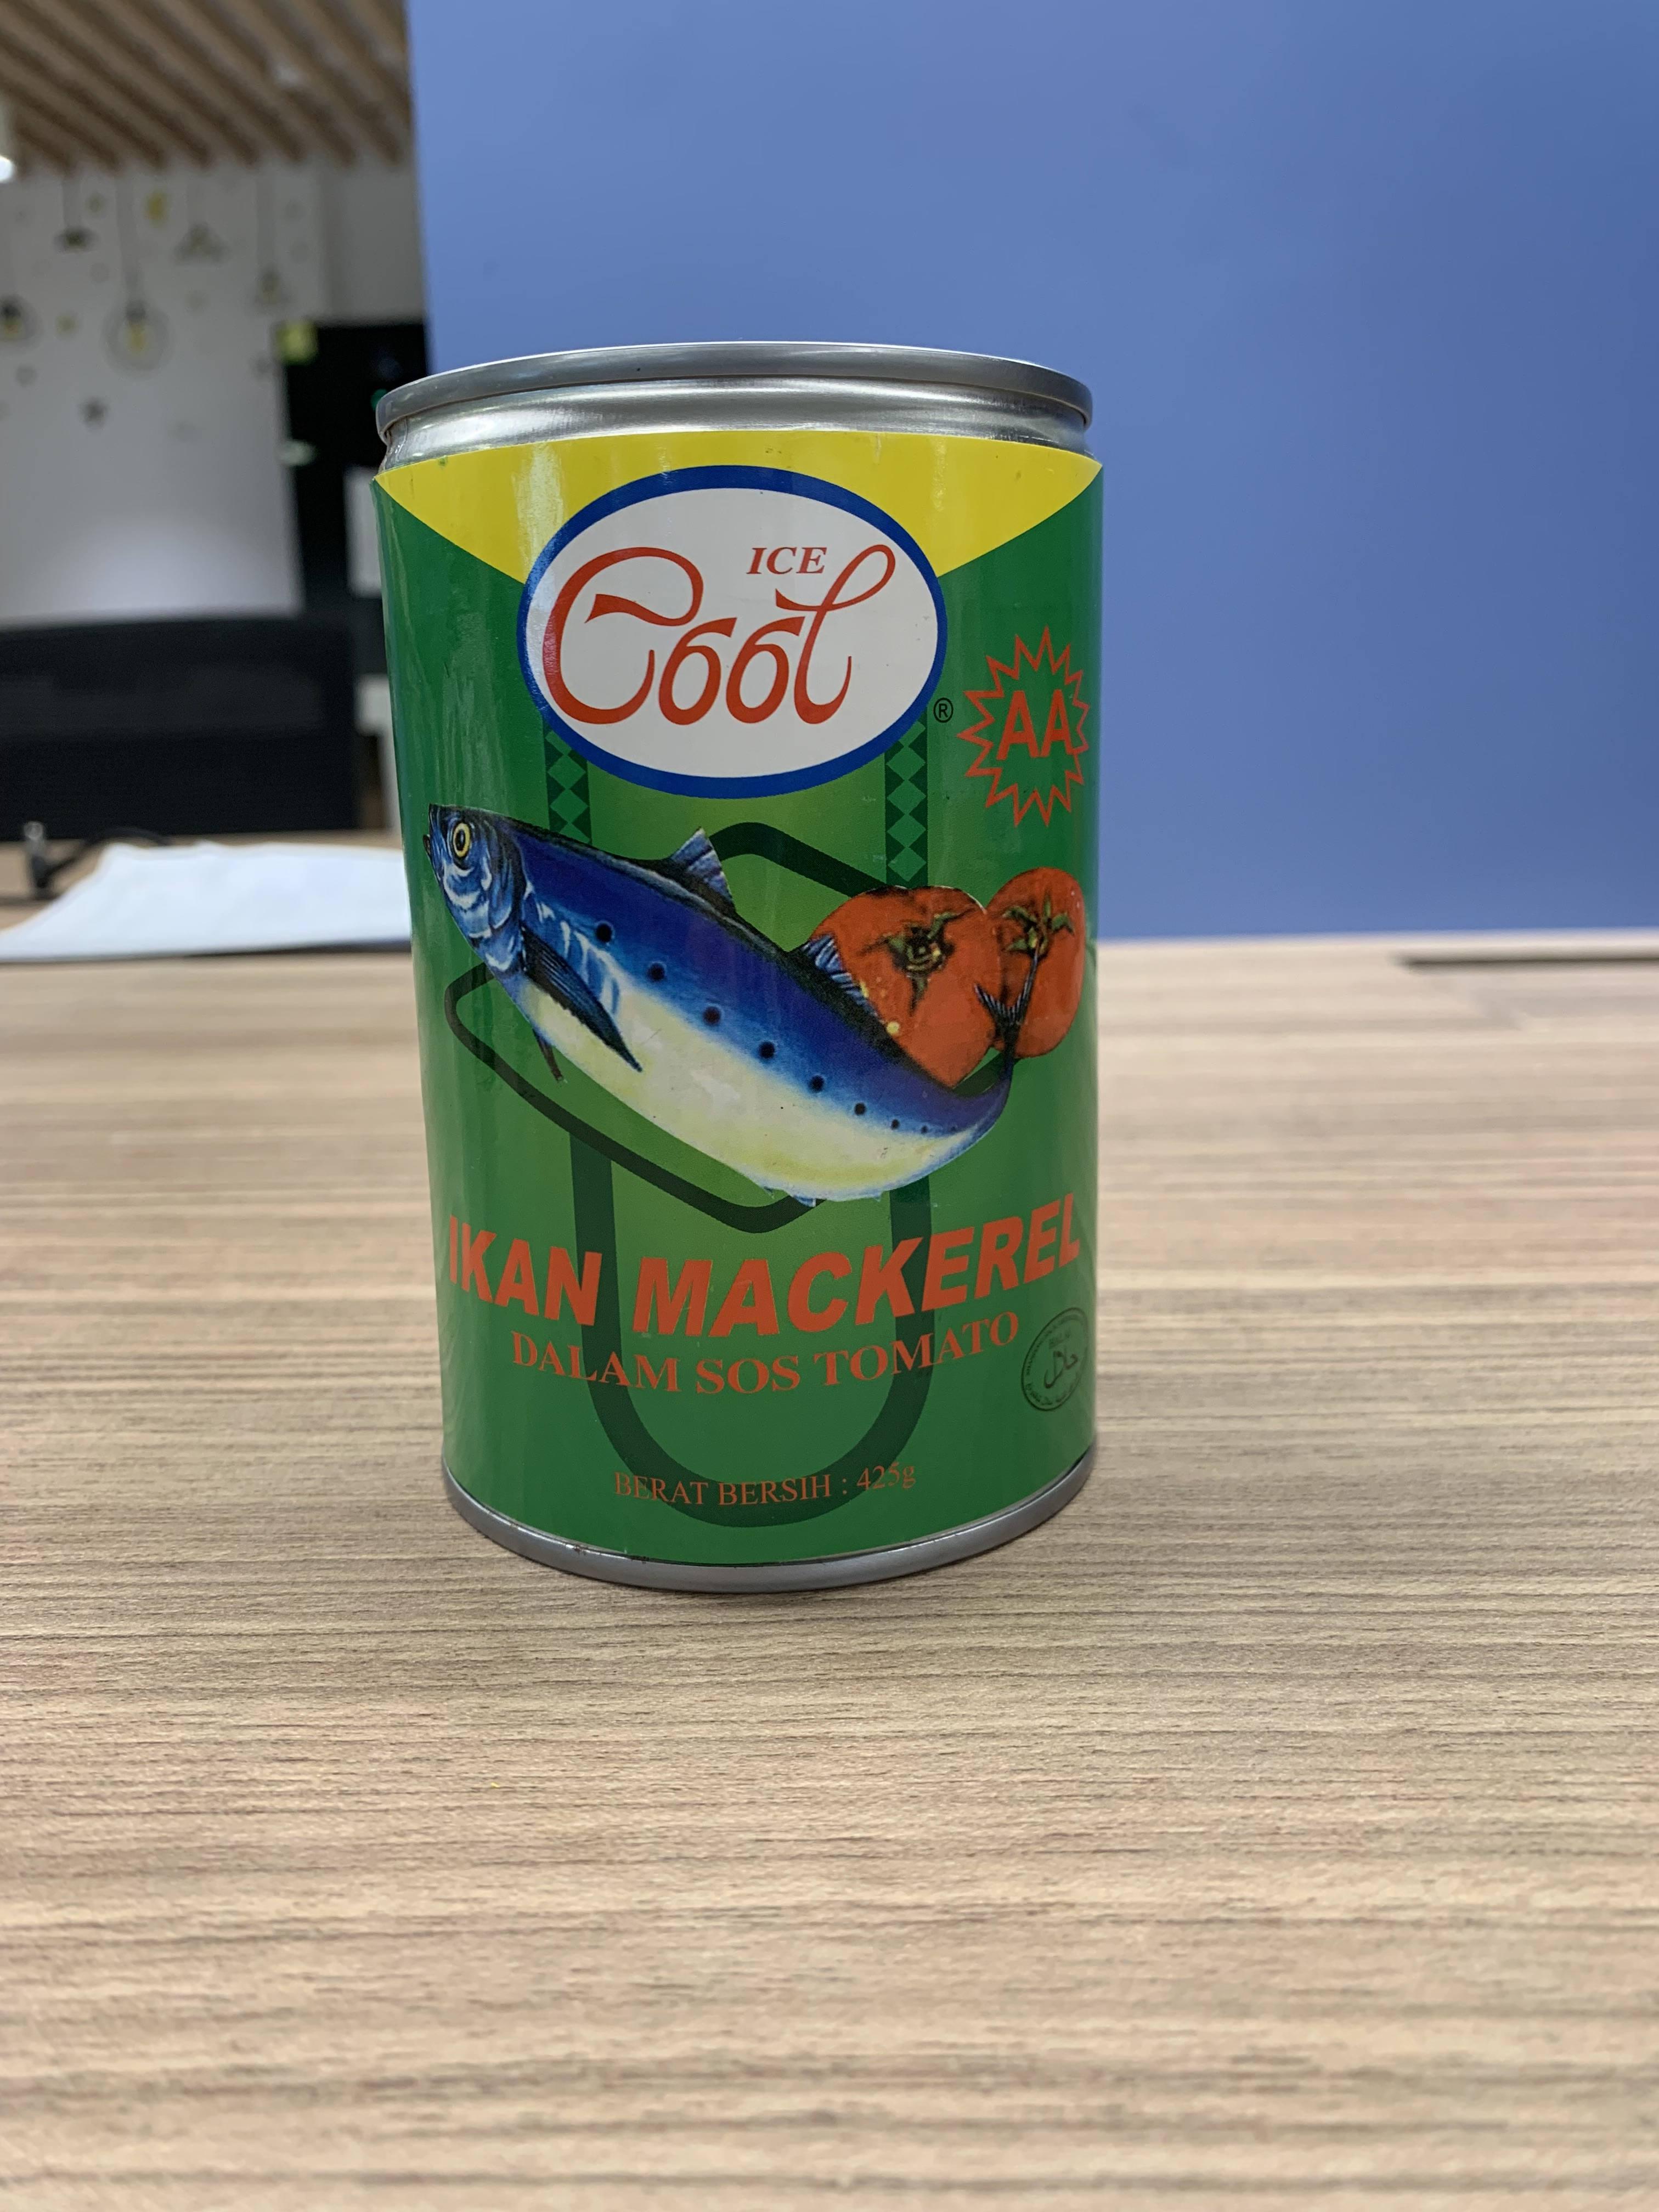sardines_400g-499g: (423, 413, 1098, 1527)
